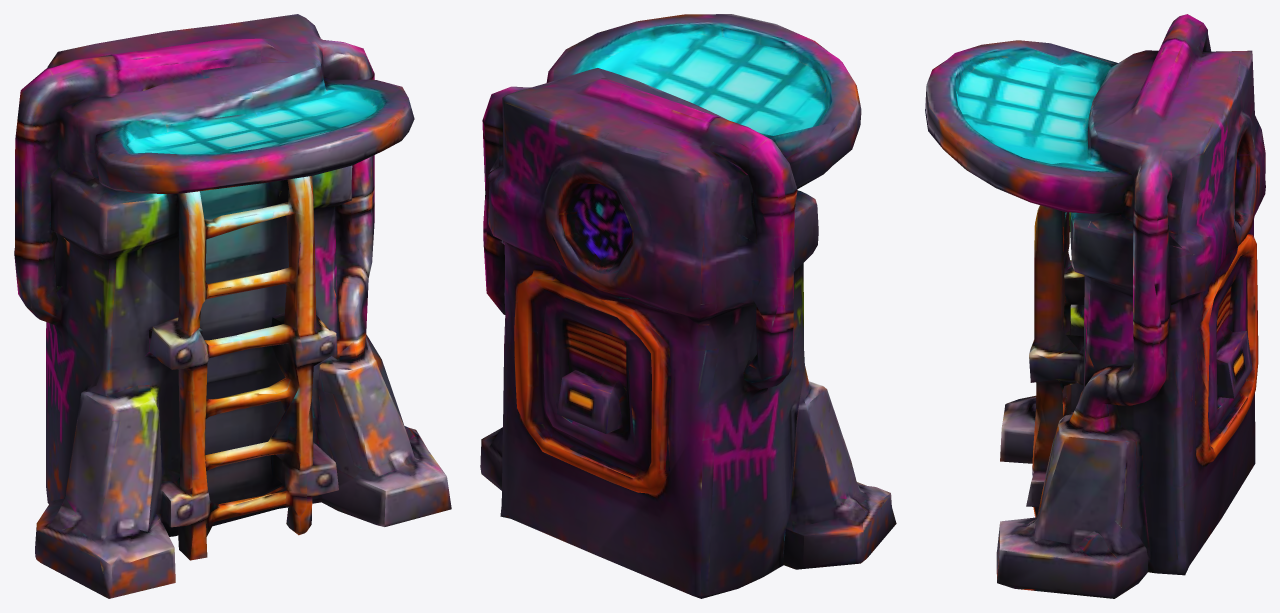
Rendered from GW_INT_sewer_exit.glb.
3 renders of one model, left to right at view 1: azimuth 30°, elevation 25°; view 2: azimuth 150°, elevation 25°; view 3: azimuth 270°, elevation 25°, orthographic. The views are drawn at different scales.
Visible parts, largest first — view 1: tripo_node_e22e4d9e-f97f-4a3c-8382-0496d7b2d139; view 2: tripo_node_e22e4d9e-f97f-4a3c-8382-0496d7b2d139; view 3: tripo_node_e22e4d9e-f97f-4a3c-8382-0496d7b2d139.
Part boxes in pixels (<box>): tripo_node_e22e4d9e-f97f-4a3c-8382-0496d7b2d139: <box>14,14,451,598</box>; tripo_node_e22e4d9e-f97f-4a3c-8382-0496d7b2d139: <box>480,14,896,598</box>; tripo_node_e22e4d9e-f97f-4a3c-8382-0496d7b2d139: <box>925,14,1265,598</box>.
Size of the model in its own units: 0.8804 by 0.9965 by 0.6967.
1 material, 1 textured.
